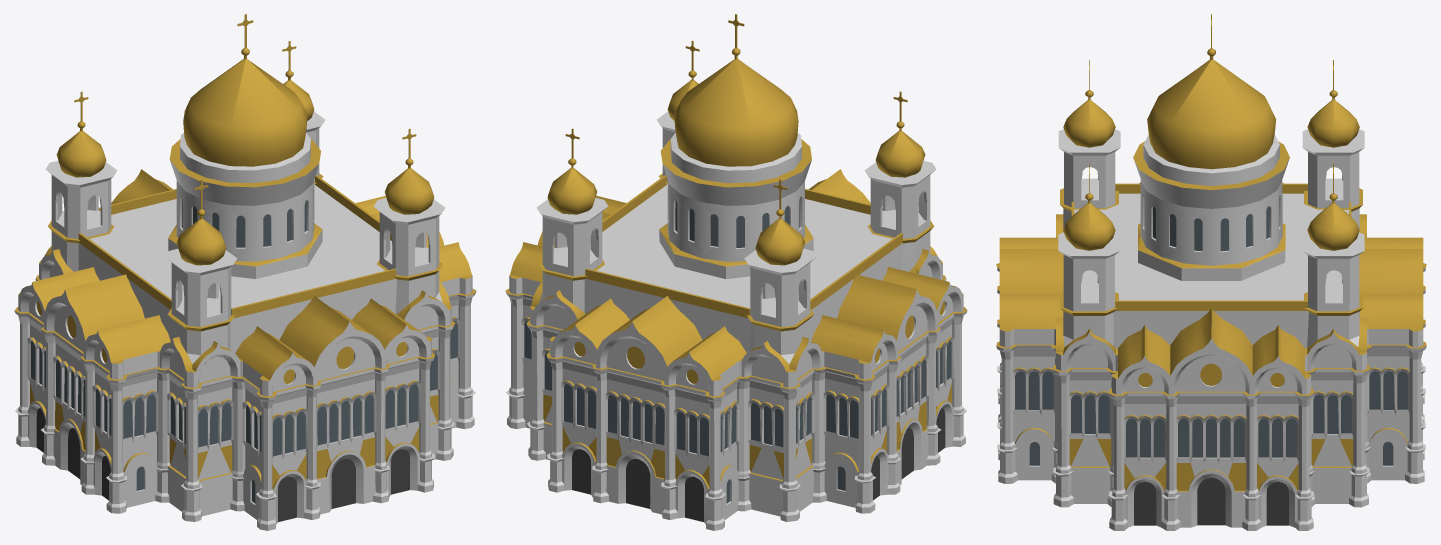
File: Храм Христа Спасителя.fbx
3 views of the same model, side by side, from view 1: azimuth 30°, elevation 25°; view 2: azimuth 150°, elevation 25°; view 3: azimuth 270°, elevation 25° (orthographic).
Visible parts, largest first — view 1: 4_lvl1, 4_lvl2, 4_lvl3, 4_lvl10, 4_lvl7, 4_lvl6, 4_lvl8, 4_lvl5, 4_lvl9, 4_lvl4; view 2: 4_lvl1, 4_lvl4, 4_lvl3, 4_lvl10, 4_lvl8, 4_lvl9, 4_lvl7, 4_lvl5, 4_lvl6, 4_lvl2; view 3: 4_lvl1, 4_lvl5, 4_lvl10, 4_lvl4, 4_lvl2, 4_lvl6, 4_lvl9, 4_lvl7, 4_lvl8.
Boxes of the visible parts, x1,y1,x2,y2 form: 4_lvl1: (35,173,455,521); 4_lvl2: (235,296,435,530); 4_lvl3: (14,267,170,513); 4_lvl10: (168,14,322,278); 4_lvl7: (165,179,237,326); 4_lvl6: (373,128,445,276); 4_lvl8: (45,91,117,238); 4_lvl5: (355,196,476,429); 4_lvl9: (282,41,325,181); 4_lvl4: (111,169,172,204); 4_lvl1: (526,173,946,521); 4_lvl4: (546,296,746,530); 4_lvl3: (811,267,967,513); 4_lvl10: (659,14,813,278); 4_lvl8: (744,179,815,326); 4_lvl9: (536,128,608,276); 4_lvl7: (864,91,936,238); 4_lvl5: (505,195,626,429); 4_lvl6: (657,40,699,181); 4_lvl2: (809,169,870,204); 4_lvl1: (1051,183,1371,507); 4_lvl5: (1108,308,1314,530); 4_lvl10: (1133,14,1289,280); 4_lvl4: (1359,237,1426,483); 4_lvl2: (996,237,1063,483); 4_lvl6: (1058,163,1120,311); 4_lvl9: (1302,163,1364,311); 4_lvl7: (1058,60,1120,208); 4_lvl8: (1302,60,1364,208).
Size of the model in its own units: 1266 by 1391 by 1266.
